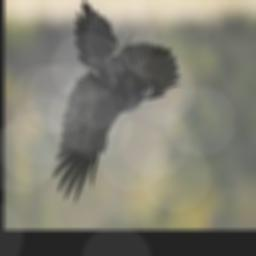Crow: (53, 1, 183, 204)
